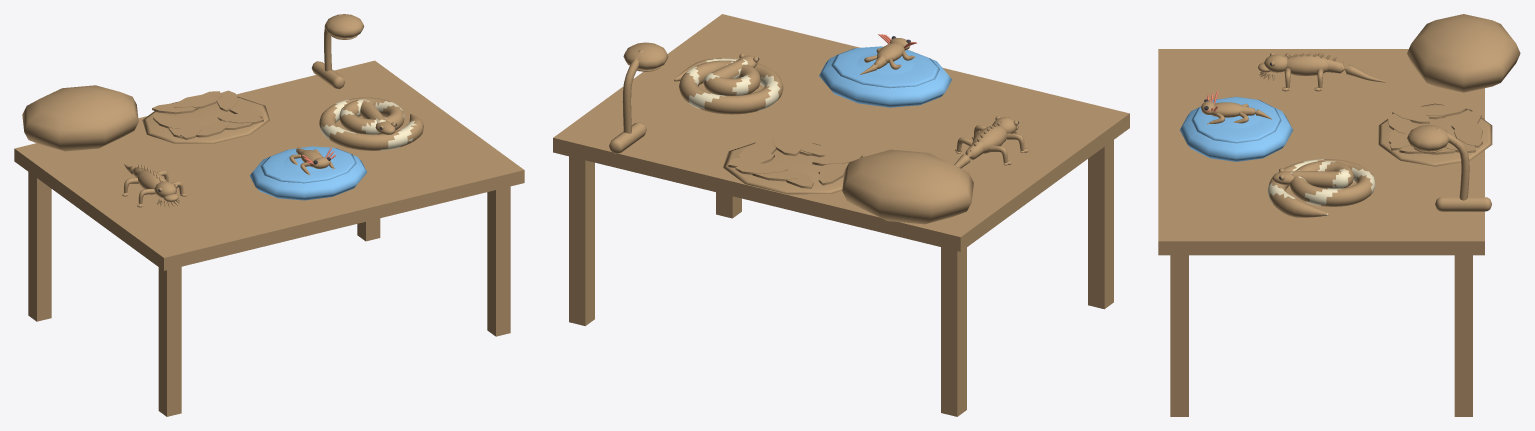
File: reptiles-amphibians-and-minibeasts-terra-93be88f0-starter-scene__22470.glb
The picture shows the model from 3 angles, left to right: view 1: azimuth 30°, elevation 25°; view 2: azimuth 150°, elevation 25°; view 3: azimuth 270°, elevation 25°; orthographic projection. The views are drawn at different scales.
Visible parts, largest first — view 1: 000-terrarium-display-shelf-unit/0, 002-basking-rock/0, 004-ball-python-coiled/0, 003-water-dish/0, 006-leaf-litter-patch/0, 003-water-dish/1, 006-leaf-litter-patch/2, 006-leaf-litter-patch/1, 005-heat-lamp-on-clip/0, 001-bearded-dragon/0, 004-ball-python-coiled/1, 007-axolotl/0; view 2: 000-terrarium-display-shelf-unit/0, 002-basking-rock/0, 004-ball-python-coiled/0, 003-water-dish/0, 003-water-dish/1, 006-leaf-litter-patch/0, 005-heat-lamp-on-clip/0, 006-leaf-litter-patch/1, 006-leaf-litter-patch/2, 001-bearded-dragon/0, 004-ball-python-coiled/1, 007-axolotl/0; view 3: 000-terrarium-display-shelf-unit/0, 002-basking-rock/0, 004-ball-python-coiled/0, 003-water-dish/0, 005-heat-lamp-on-clip/0, 001-bearded-dragon/0, 003-water-dish/1, 006-leaf-litter-patch/0, 006-leaf-litter-patch/1, 006-leaf-litter-patch/2, 004-ball-python-coiled/1, 007-axolotl/0.
Part boxes in pixels (<box>): 000-terrarium-display-shelf-unit/0: <box>14,60,524,416</box>; 002-basking-rock/0: <box>22,85,138,151</box>; 004-ball-python-coiled/0: <box>319,97,423,150</box>; 003-water-dish/0: <box>249,152,367,200</box>; 006-leaf-litter-patch/0: <box>142,96,269,143</box>; 003-water-dish/1: <box>260,146,356,183</box>; 006-leaf-litter-patch/2: <box>152,90,263,139</box>; 006-leaf-litter-patch/1: <box>153,91,262,137</box>; 005-heat-lamp-on-clip/0: <box>311,14,364,89</box>; 001-bearded-dragon/0: <box>122,164,187,207</box>; 004-ball-python-coiled/1: <box>320,99,416,150</box>; 007-axolotl/0: <box>289,147,335,175</box>; 000-terrarium-display-shelf-unit/0: <box>553,14,1129,416</box>; 002-basking-rock/0: <box>842,149,973,224</box>; 004-ball-python-coiled/0: <box>674,55,783,114</box>; 003-water-dish/0: <box>819,53,951,107</box>; 003-water-dish/1: <box>831,46,939,87</box>; 006-leaf-litter-patch/0: <box>723,142,843,194</box>; 005-heat-lamp-on-clip/0: <box>609,42,668,153</box>; 006-leaf-litter-patch/1: <box>735,136,848,185</box>; 006-leaf-litter-patch/2: <box>728,133,862,188</box>; 001-bearded-dragon/0: <box>954,117,1028,168</box>; 004-ball-python-coiled/1: <box>674,58,780,111</box>; 007-axolotl/0: <box>860,38,915,74</box>; 000-terrarium-display-shelf-unit/0: <box>1158,49,1484,416</box>; 002-basking-rock/0: <box>1407,14,1520,92</box>; 004-ball-python-coiled/0: <box>1269,159,1375,217</box>; 003-water-dish/0: <box>1180,102,1292,161</box>; 005-heat-lamp-on-clip/0: <box>1407,124,1491,211</box>; 001-bearded-dragon/0: <box>1258,53,1385,91</box>; 003-water-dish/1: <box>1191,96,1281,143</box>; 006-leaf-litter-patch/0: <box>1378,103,1492,166</box>; 006-leaf-litter-patch/1: <box>1388,105,1482,154</box>; 006-leaf-litter-patch/2: <box>1389,105,1481,153</box>; 004-ball-python-coiled/1: <box>1267,159,1375,216</box>; 007-axolotl/0: <box>1201,101,1271,124</box>.
Bounding box in the file's own units: 1.6 × 1.02 × 1.27.
